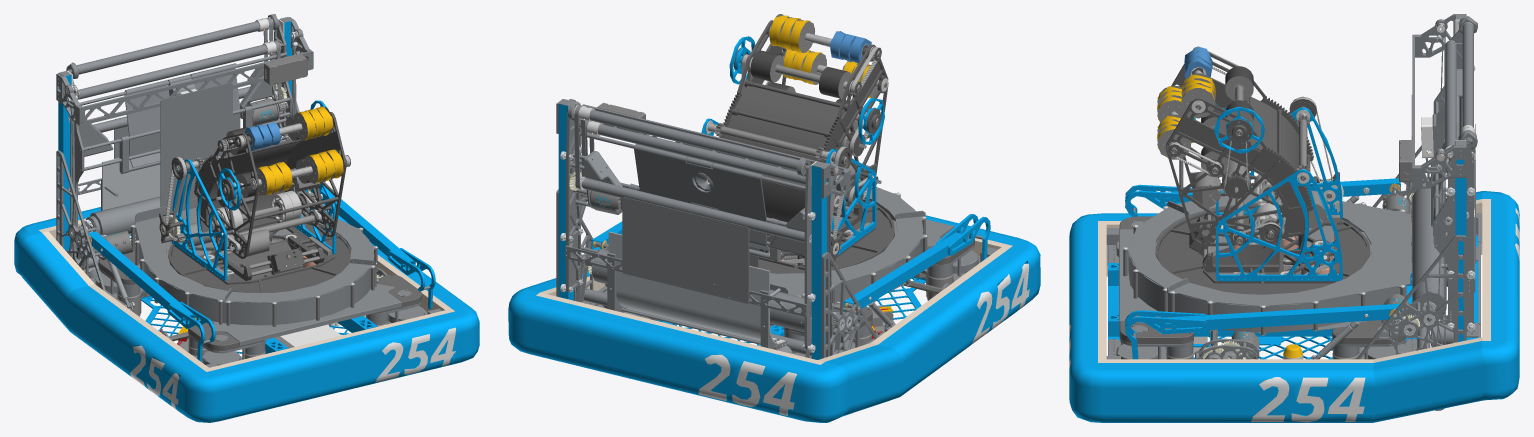
File: frc-254-2024.glb
3 views of the same model, side by side, from view 1: azimuth 30°, elevation 25°; view 2: azimuth 150°, elevation 25°; view 3: azimuth 270°, elevation 25° (orthographic). The views are drawn at different scales.
Parts seen in each view (by area): view 1: object 51, object 7, object 9, object 90, Part 1 (×8), Simplified MK4i (×3), object 53, 973 Mk4i Dust Cover (×2), 3" OD 1/2" Hex ID Stealth Wheel 35A (am-4716) 40A (×3), object 20, Kraken X60 Brushless Motor (×2), object 89 (+4 smaller); view 2: object 51, object 9, object 7, object 90, Part 1 (×8), object 53, Simplified MK4i (×2), 3DP Shooter Wheel 2.5" (×2), object 89, Flywheel (×2), 3" OD 1/2" Hex ID Stealth Wheel 35A (am-4716) 40A (×2), object 93 (+1 smaller); view 3: object 51, object 90, object 7, object 9, Part 1 (×11), Simplified MK4i (×2), 973 Mk4i Dust Cover (×2), 3" OD 1/2" Hex ID Stealth Wheel 35A (am-4716) 40A (×3), object 89, Flywheel, 3DP Shooter Wheel 2.5", object 93 (+6 smaller).
Boxes of the visible parts, x1,y1,x2,y2 form: object 51: (14, 159, 479, 422); object 7: (114, 63, 401, 345); object 9: (56, 17, 328, 291); object 90: (159, 112, 350, 302); Part 1 (×8): (58, 53, 448, 370); Simplified MK4i (×3): (90, 260, 427, 365); object 53: (102, 128, 242, 210); 973 Mk4i Dust Cover (×2): (188, 274, 421, 350); 3" OD 1/2" Hex ID Stealth Wheel 35A (am-4716) 40A (×3): (256, 111, 326, 195); object 20: (264, 54, 307, 85); Kraken X60 Brushless Motor (×2): (102, 98, 277, 257); object 89: (165, 135, 350, 254); object 51: (508, 118, 1040, 422); object 9: (556, 99, 877, 358); object 7: (622, 141, 954, 304); object 90: (719, 20, 894, 325); Part 1 (×8): (543, 104, 990, 363); object 53: (608, 231, 777, 343); Simplified MK4i (×2): (783, 244, 980, 358); 3DP Shooter Wheel 2.5" (×2): (750, 50, 851, 98); object 89: (741, 47, 878, 265); Flywheel (×2): (729, 36, 884, 144); 3" OD 1/2" Hex ID Stealth Wheel 35A (am-4716) 40A (×2): (789, 19, 826, 84); object 93: (721, 126, 846, 236); object 51: (1069, 107, 1519, 422); object 90: (1155, 52, 1370, 294); object 7: (1119, 83, 1475, 334); object 9: (1356, 14, 1480, 410); Part 1 (×11): (1098, 155, 1490, 359); Simplified MK4i (×2): (1108, 325, 1417, 359); 973 Mk4i Dust Cover (×2): (1119, 320, 1405, 344); 3" OD 1/2" Hex ID Stealth Wheel 35A (am-4716) 40A (×3): (1157, 83, 1215, 159); object 89: (1167, 48, 1332, 305); Flywheel: (1214, 106, 1264, 153); 3DP Shooter Wheel 2.5": (1225, 66, 1253, 100); object 93: (1235, 107, 1343, 229).
Size of the model in its own units: 0.8699 by 0.6859 by 0.9963.
